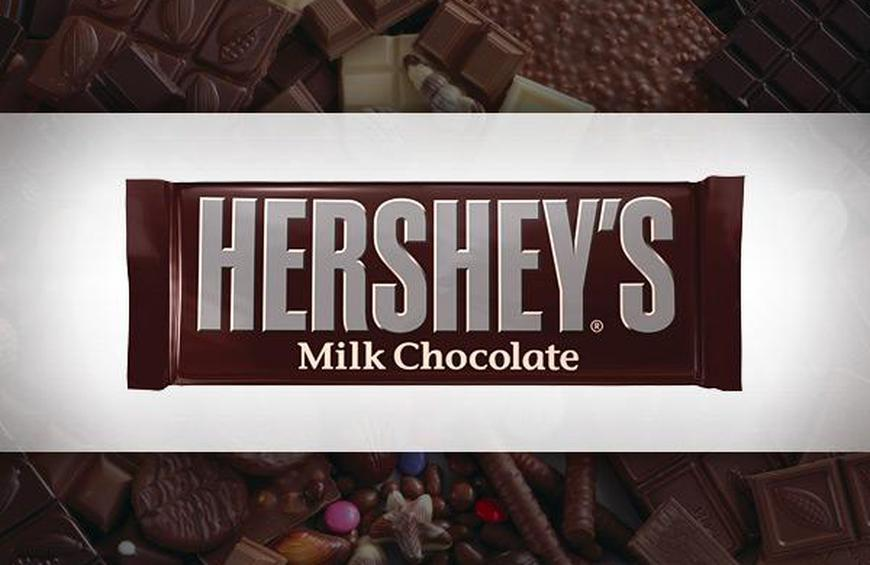hershey: (121, 175, 749, 396)
